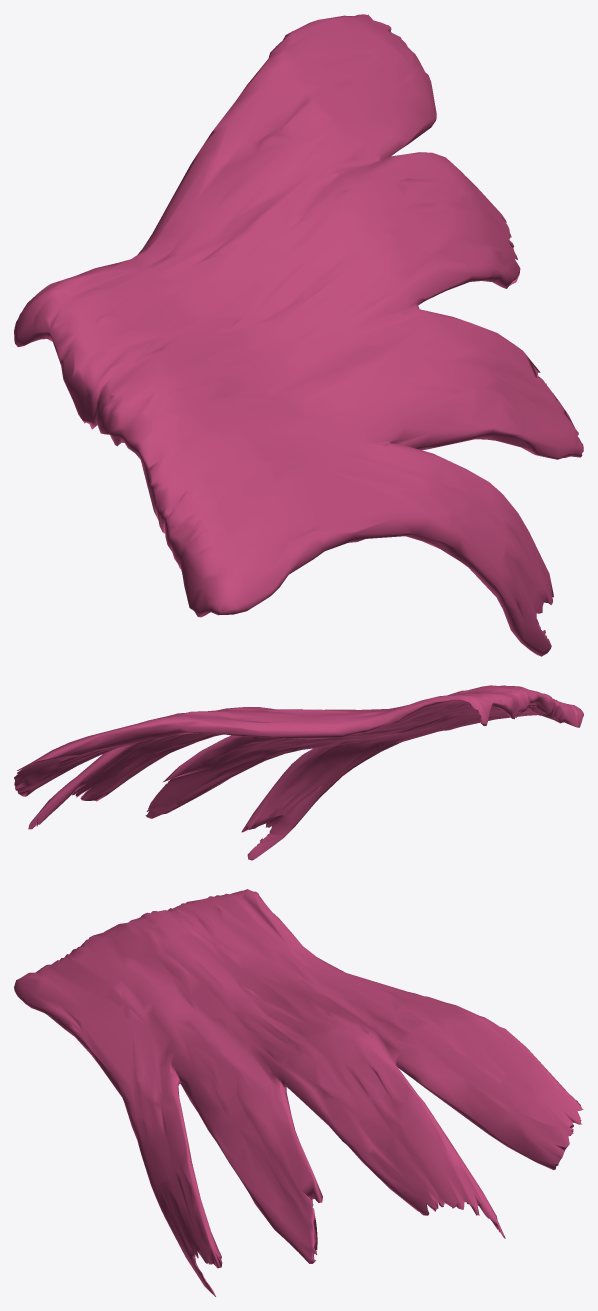
3 views of the same model, one above another, from view 1: azimuth 30°, elevation 25°; view 2: azimuth 150°, elevation 25°; view 3: azimuth 270°, elevation 25° (orthographic). The views are drawn at different scales.
Parts seen in each view (by area): view 1: 左侧上后锯肌; view 2: 左侧上后锯肌; view 3: 左侧上后锯肌.
Boxes of the visible parts, x1,y1,x2,y2 form: 左侧上后锯肌: (14, 14, 583, 656); 左侧上后锯肌: (14, 685, 583, 860); 左侧上后锯肌: (14, 889, 583, 1296).
Bounding box in the file's own units: 0.1554 × 0.0978 × 0.1853.
